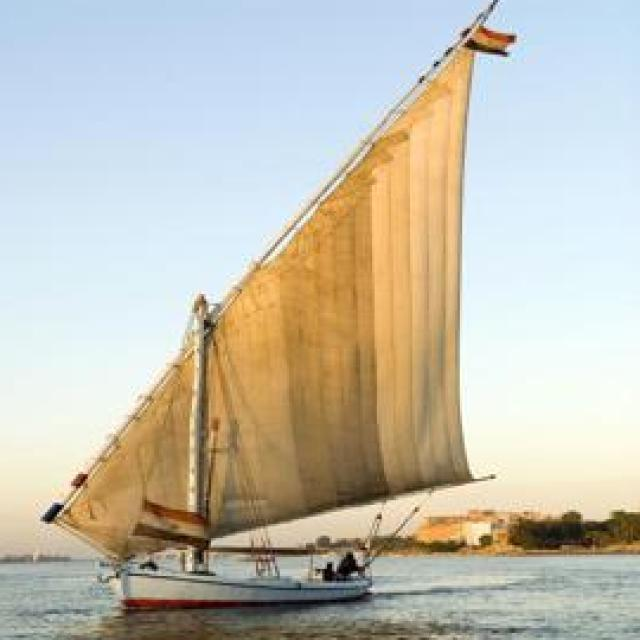sailboat: (33, 0, 538, 604)
